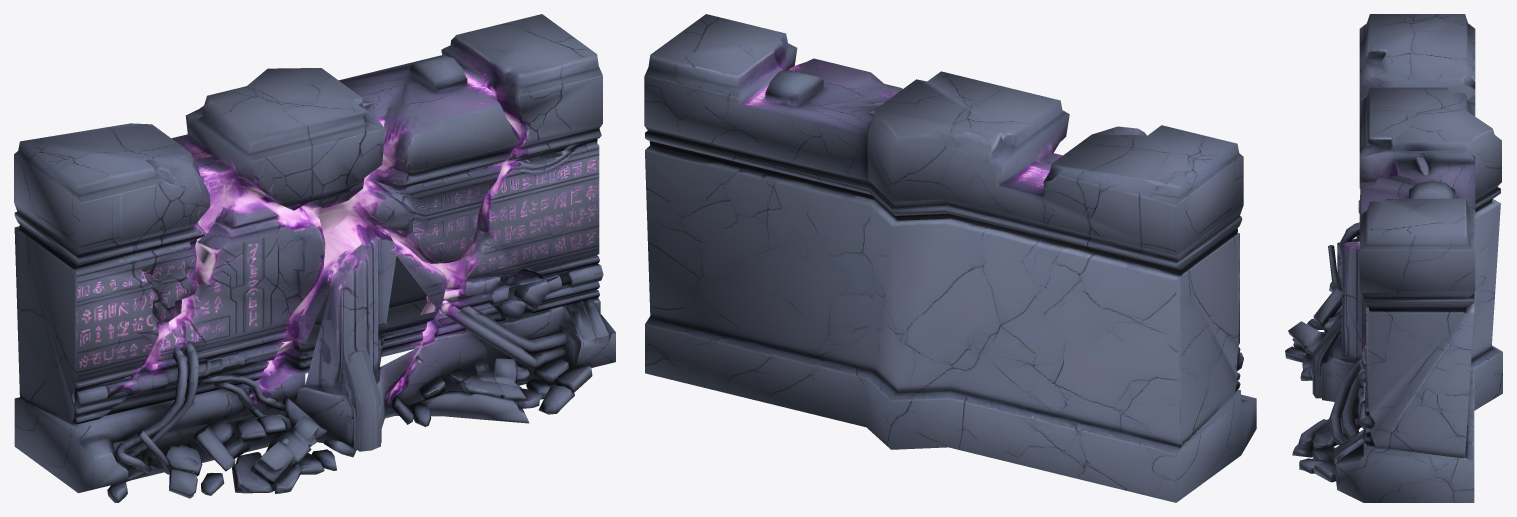
File: selected.glb
3 views of the same model, side by side, from view 1: azimuth 30°, elevation 25°; view 2: azimuth 150°, elevation 25°; view 3: azimuth 270°, elevation 25° (orthographic). The views are drawn at different scales.
Visible parts, largest first — view 1: tripo_node_799bc6c5-c9c8-493f-8a97-1e243bebf703; view 2: tripo_node_799bc6c5-c9c8-493f-8a97-1e243bebf703; view 3: tripo_node_799bc6c5-c9c8-493f-8a97-1e243bebf703.
Boxes of the visible parts, <box> form: tripo_node_799bc6c5-c9c8-493f-8a97-1e243bebf703: <box>14,14,615,502</box>; tripo_node_799bc6c5-c9c8-493f-8a97-1e243bebf703: <box>644,14,1256,502</box>; tripo_node_799bc6c5-c9c8-493f-8a97-1e243bebf703: <box>1285,14,1502,502</box>.
Size of the model in its own units: 0.998 by 0.5801 by 0.416.
Materials: 1 (1 with a texture image).
